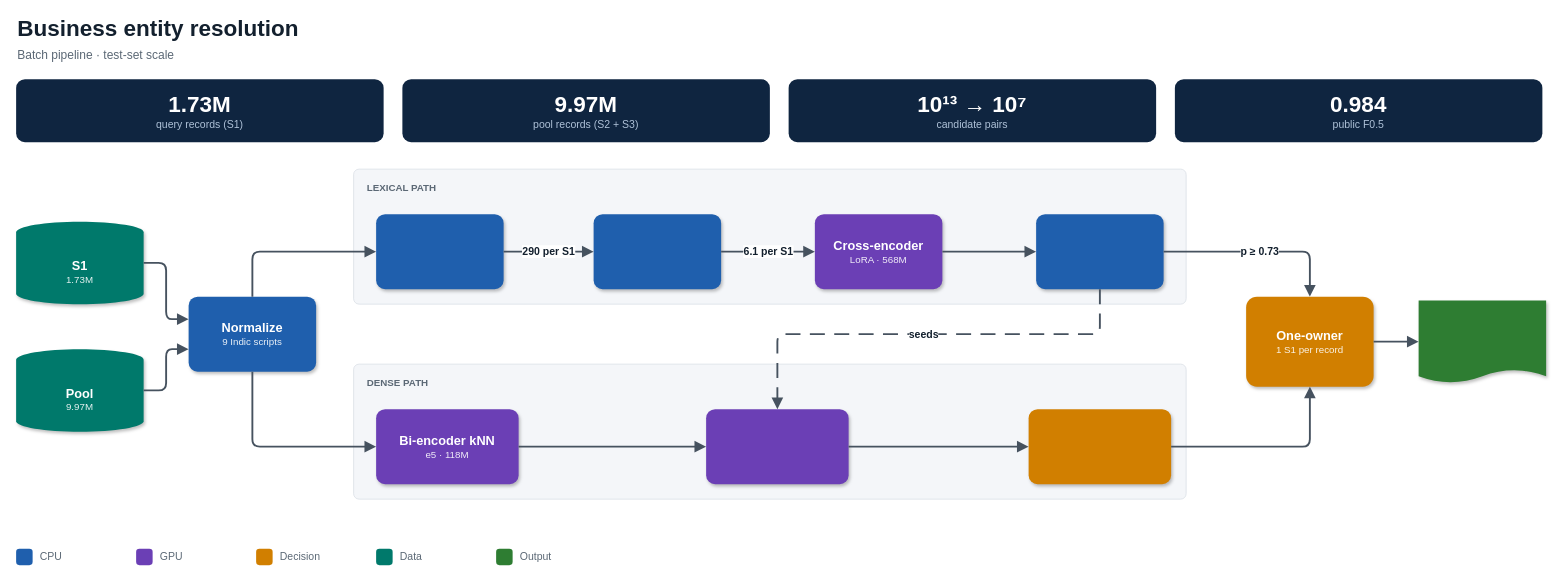
The diagram is 1563 pixels wide and 582 high, and some of its shapes have lost their labels. The centre of each missing label's shape, as x and y in pixels:
"Copy expansion kNN of accepted" goes at pixel 778 447.
"Cross-encoder gate p ≥ 0.995" goes at pixel 1100 447.
"Inverted index 10 key families" goes at pixel 440 252.
"Matches 5.8M pairs" goes at pixel 1482 342.
"Pair classifier LightGBM · 85 feat." goes at pixel 1100 252.
"Re-ranker LightGBM" goes at pixel 657 252.
